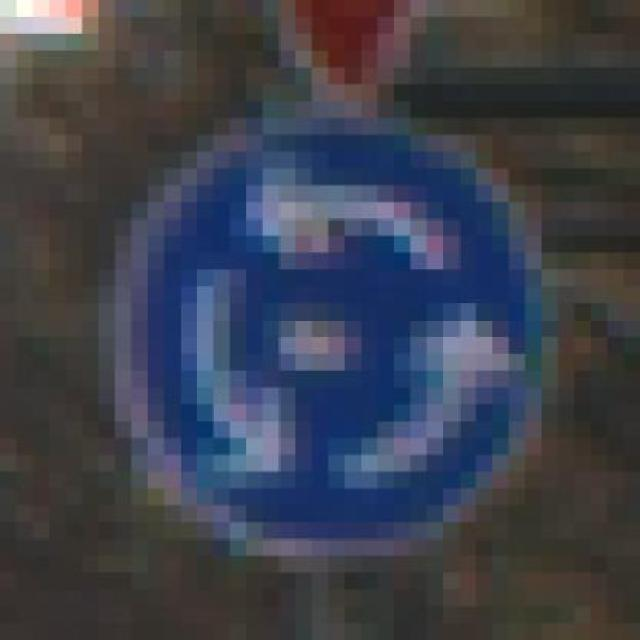Round-About: (66, 84, 592, 590)
